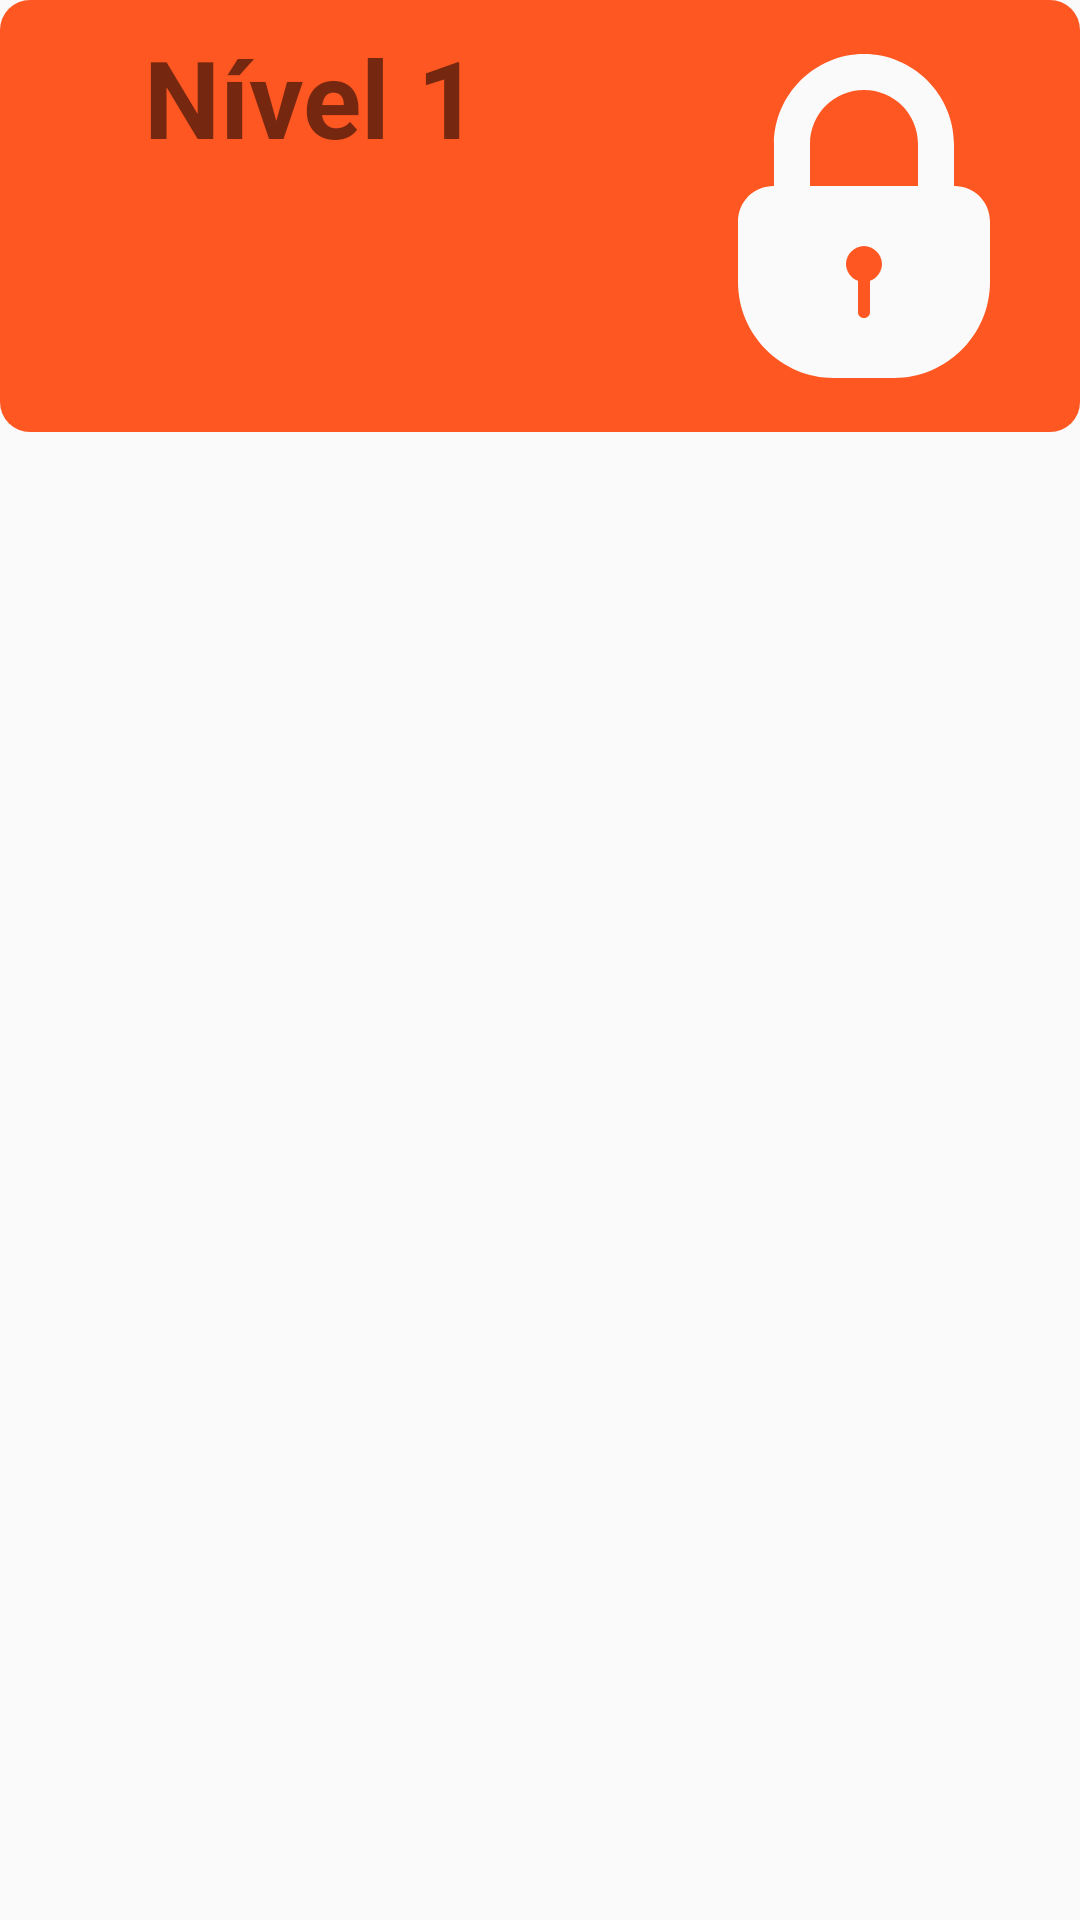

Icon click points for this 1080px×1920px phone screenshot, format (x=x, y=y):
lock: (x=864, y=216)
